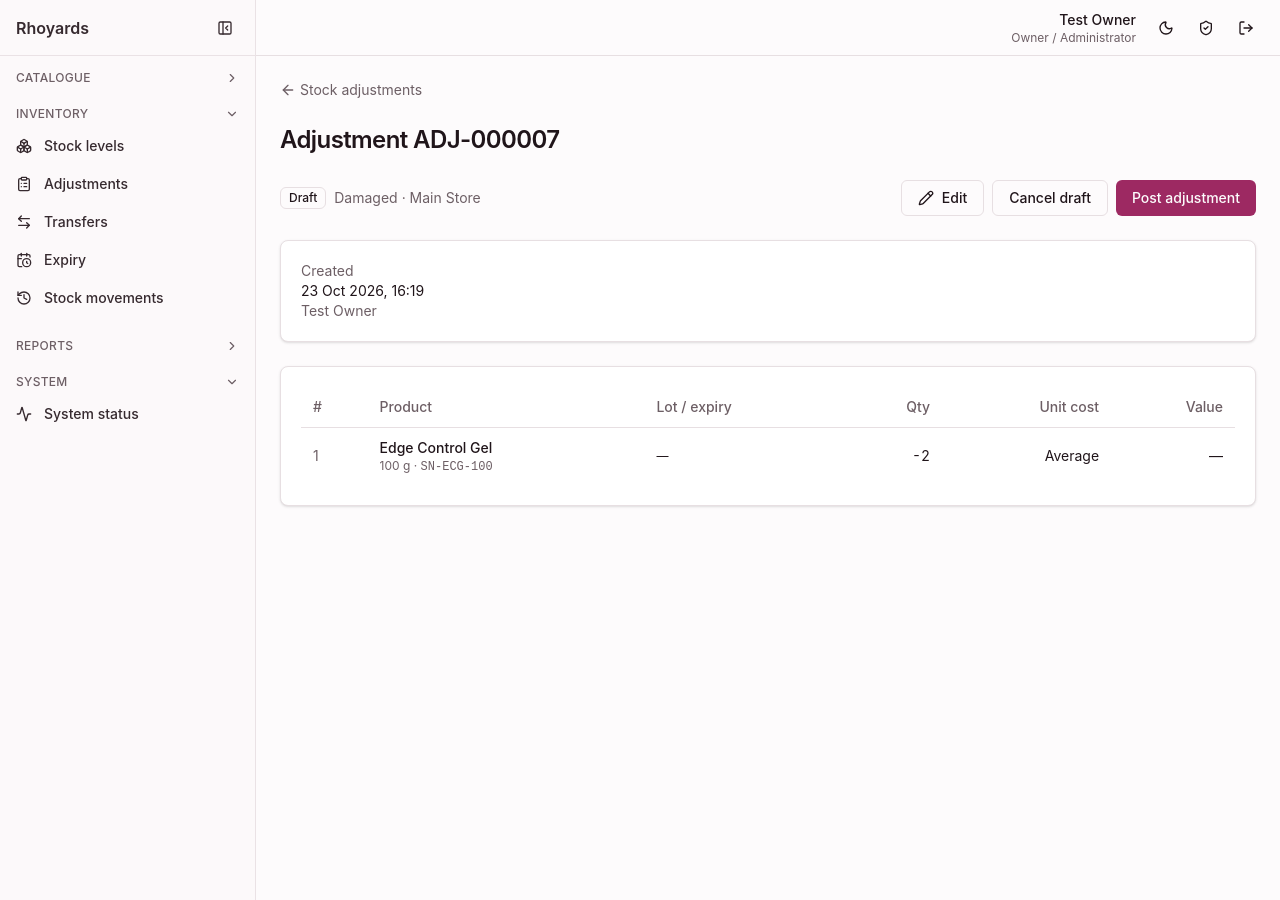
Test: stock adjustment editor › posts a draft after confirmation
The width and height of the screenshot is (1280, 900).
Click the button "Post adjustment". click: (1186, 198)
box: [1116,180,1256,216]
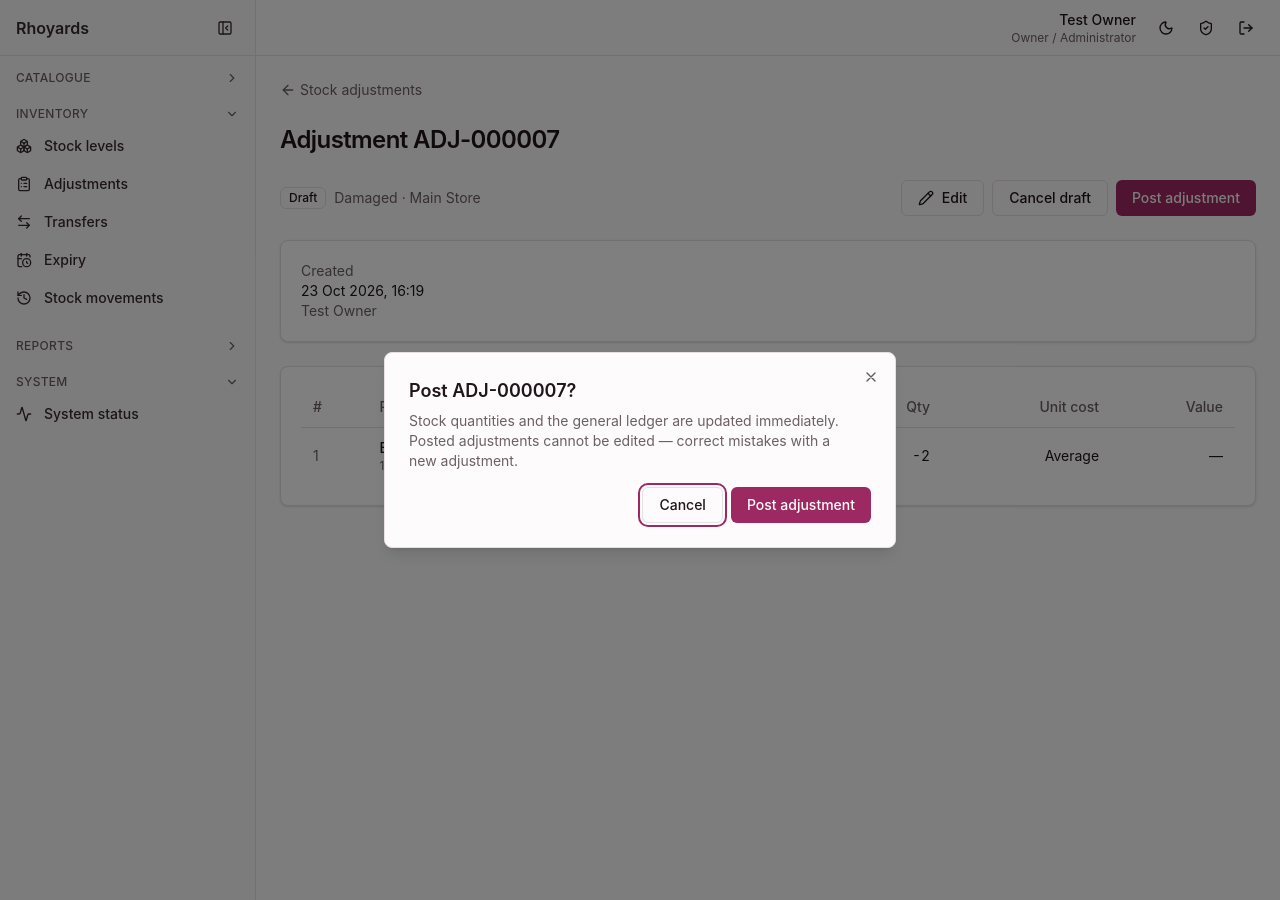
Click the button "Post adjustment". click: (801, 505)
box: [731,487,871,523]
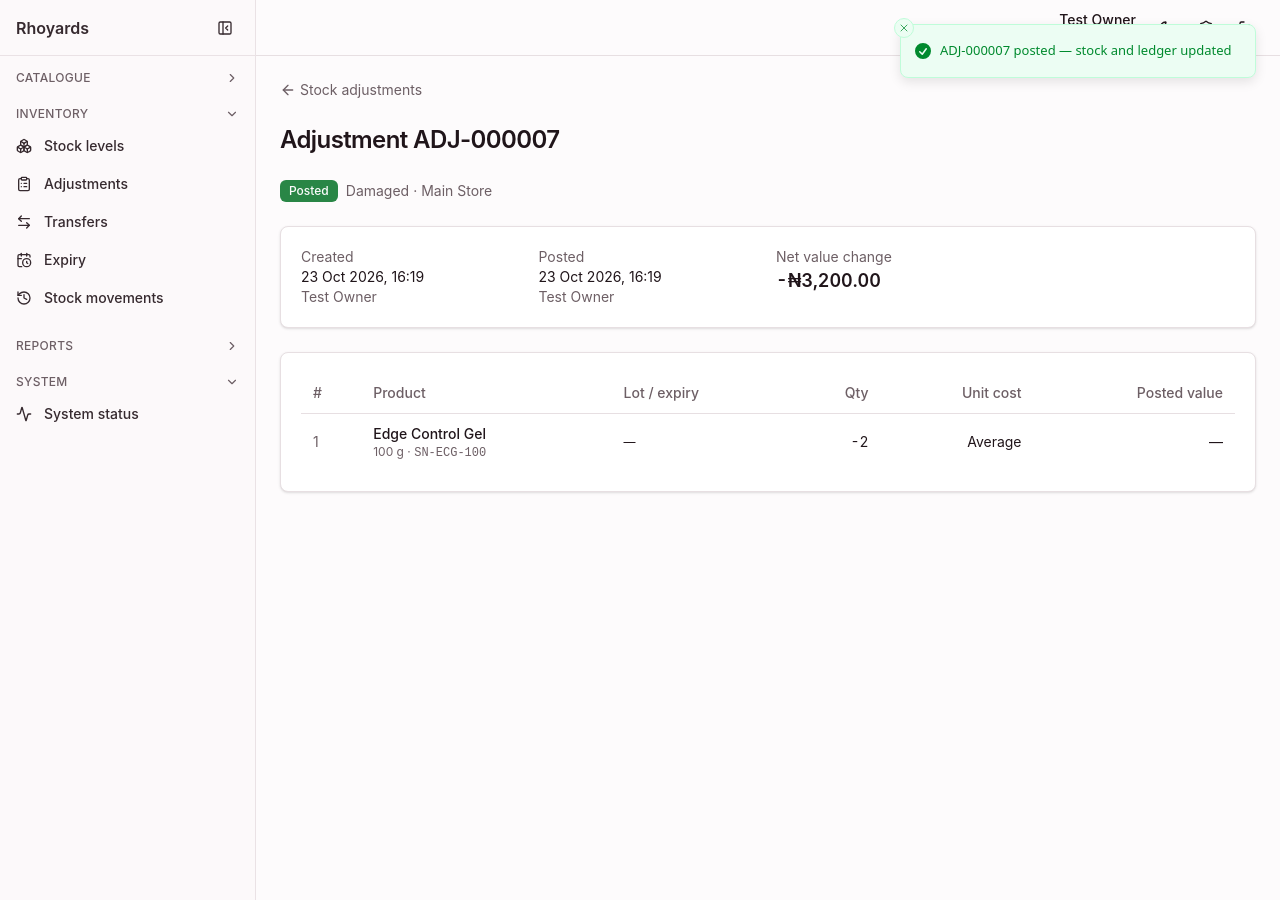
Expected: the text "ADJ-000007 posted — stock and ledger updated" is shown, [940,41,1232,60]
Expected: the text "Net value change" is shown, [776,248,892,265]
Expected: the button "Edit" is gone
